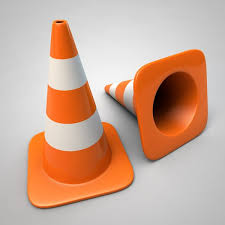cones: (26, 16, 136, 201), (101, 45, 214, 159)
